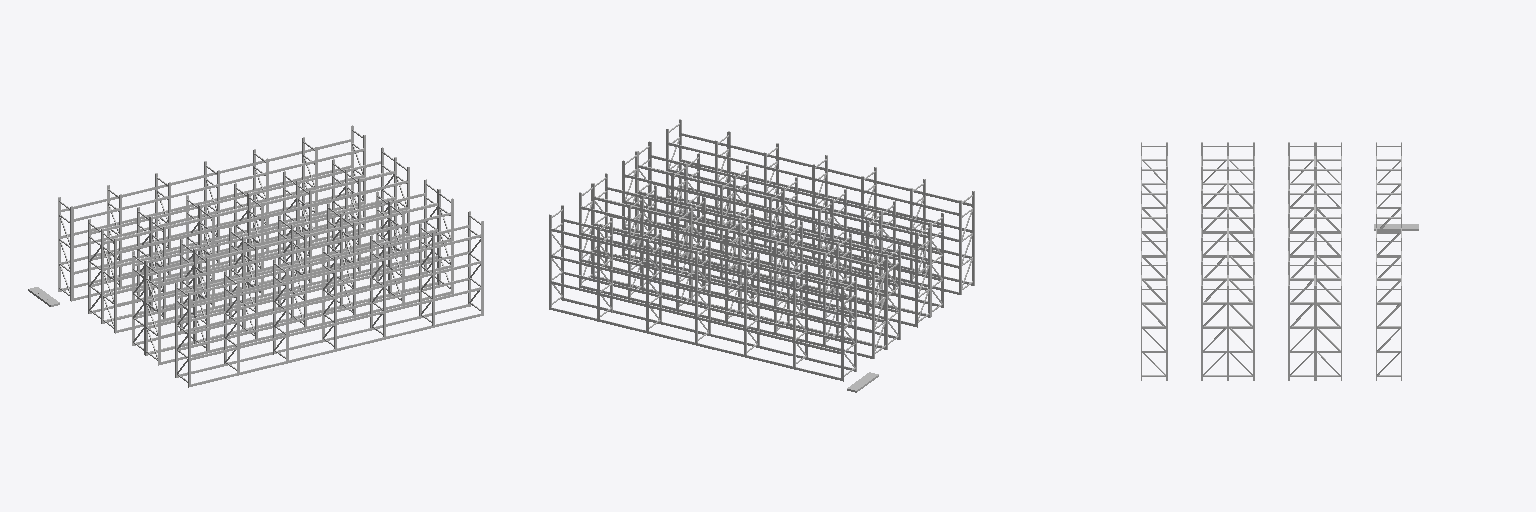
The model's file is tuo.obj.
The picture shows the model from 3 angles: view 1: azimuth 30°, elevation 25°; view 2: azimuth 150°, elevation 25°; view 3: azimuth 270°, elevation 25°; orthographic projection.
Visible parts, largest first — view 1: PalletRack3, PalletRack5, PalletRack1, PalletRack4, PalletRack2, PalletRack6, Shelf64, Shelf54, Shelf65, Shelf66, Shelf62, Shelf46 (+12 smaller); view 2: PalletRack1, PalletRack6, PalletRack2, PalletRack3, PalletRack4, PalletRack5, Shelf44, Shelf50, Shelf66, Shelf46, Shelf58, Shelf45 (+12 smaller); view 3: PalletRack5, PalletRack2, PalletRack6, PalletRack3, PalletRack4, PalletRack1.
Boxes of the visible parts, x1=… form: PalletRack3: x1=175, y1=211, x2=483, y2=387; PalletRack5: x1=145, y1=189, x2=453, y2=365; PalletRack1: x1=58, y1=125, x2=365, y2=301; PalletRack4: x1=101, y1=157, x2=409, y2=333; PalletRack2: x1=132, y1=179, x2=437, y2=354; PalletRack6: x1=88, y1=147, x2=394, y2=318; Shelf64: x1=178, y1=278, x2=480, y2=360; Shelf54: x1=104, y1=171, x2=407, y2=253; Shelf65: x1=179, y1=251, x2=480, y2=333; Shelf66: x1=178, y1=225, x2=480, y2=307; Shelf62: x1=148, y1=203, x2=450, y2=285; Shelf46: x1=61, y1=139, x2=363, y2=221; PalletRack1: x1=549, y1=205, x2=856, y2=381; PalletRack6: x1=579, y1=183, x2=886, y2=358; PalletRack2: x1=622, y1=151, x2=930, y2=327; PalletRack3: x1=666, y1=119, x2=974, y2=294; PalletRack4: x1=594, y1=173, x2=900, y2=349; PalletRack5: x1=638, y1=141, x2=943, y2=316; Shelf44: x1=551, y1=272, x2=853, y2=353; Shelf50: x1=581, y1=197, x2=883, y2=279; Shelf66: x1=668, y1=133, x2=971, y2=215; Shelf46: x1=551, y1=219, x2=853, y2=301; Shelf58: x1=625, y1=165, x2=927, y2=247; Shelf45: x1=551, y1=245, x2=853, y2=327; PalletRack5: x1=1201, y1=142, x2=1227, y2=380; PalletRack2: x1=1228, y1=142, x2=1254, y2=380; PalletRack6: x1=1315, y1=142, x2=1341, y2=380; PalletRack3: x1=1141, y1=142, x2=1167, y2=380; PalletRack4: x1=1288, y1=142, x2=1314, y2=380; PalletRack1: x1=1376, y1=142, x2=1401, y2=380.
Bounding box in the file's own units: 16.33 × 4.67 × 12.45.